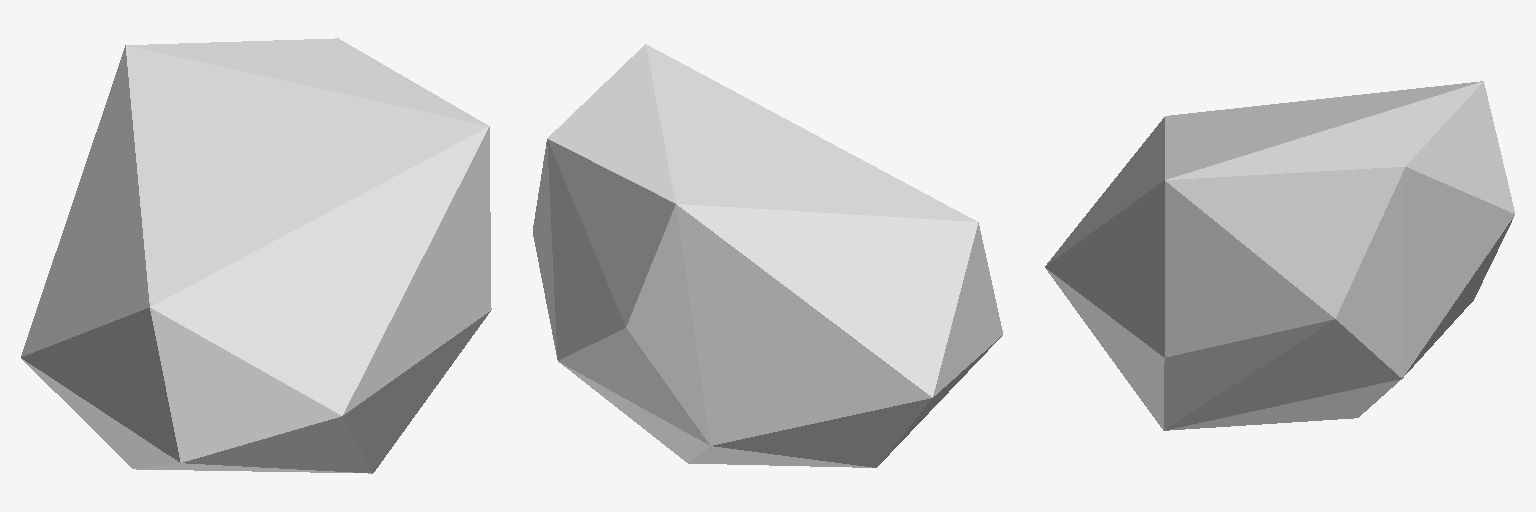
robot.urdf — talos_lleg_rom:
<?xml version="1.0" ?>
<robot name="talos_lleg_rom" xmlns:controller="http://playerstage.sourceforge.net/gazebo/xmlschema/#controller" xmlns:interface="http://playerstage.sourceforge.net/gazebo/xmlschema/#interface" xmlns:sensor="http://playerstage.sourceforge.net/gazebo/xmlschema/#sensor" xmlns:xacro="http://ros.org/wiki/xacro">

  <link name="torso_2_link">
    <inertial>
      <origin rpy="0.00000 0.00000 0.00000" xyz="-0.04551 -0.00053 0.16386"/>
      <mass value="17.55011"/>
      <inertia ixx="0.37376900000" ixy="0.00063900000" ixz="0.01219600000" iyy="0.24790200000" iyz="0.00000700000" izz="0.28140400000"/>
    </inertial>
  </link>
  <!--************************-->
  <!--        TORSO_1  (PAN)  -->
  <!--************************-->
  <link name="torso_1_link">
    <inertial>
      <origin rpy="0.00000 0.00000 0.00000" xyz="0.00013 -0.00001 -0.01306"/>
      <mass value="3.02433"/>
      <inertia ixx="0.00759400000" ixy="0.00000100000" ixz="-0.00004800000" iyy="0.00429200000" iyz="-0.00000100000" izz="0.00749700000"/>
    </inertial>
  </link>
  <joint name="torso_1_joint" type="revolute">
    <parent link="base_link"/>
    <child link="torso_1_link"/>
    <origin rpy="0.0 0.0 0.0" xyz="0.0 0.0 0.0722"/>
    <axis xyz="0 0 1"/>
    <limit effort="78.0" lower="-1.308996939" upper="1.308996939" velocity="5.4"/>
  </joint>
  <!--************************-->
  <!--        BASE_LINK       -->
  <!--************************-->
  <link name="base_link">
    <inertial>
      <origin rpy="0.00000 0.00000 0.00000" xyz="-0.08222 0.00838 -0.07261"/>
      <mass value="13.53810"/>
      <inertia ixx="0.06989000000" ixy="-0.00011700000" ixz="0.00023000000" iyy="0.03998200000" iyz="-0.00132500000" izz="0.08234500000"/>
    </inertial>
    <visual>
      <origin rpy="0 0 0" xyz="0 0 0"/>
      <geometry>
        <mesh filename="package://talos-rbprm/meshes/talos_lleg_rom.stl" scale="1 1 1"/>
      </geometry>
      <material name="LightGrey"/>
    </visual>
    <collision>
      <origin rpy="0 0 0" xyz="0 0 0"/>
      <geometry>
        <mesh filename="package://talos-rbprm/meshes/talos_lleg_rom.stl" scale="1 1 1"/>
      </geometry>
    </collision>
  </link>
  <joint name="torso_2_joint" type="revolute">
    <parent link="torso_1_link"/>
    <child link="torso_2_link"/>
    <origin rpy="0.0 0.0 0.0" xyz="0.0 0.0 0.0"/>
    <axis xyz="0 1 0"/>
    <limit effort="78.0" lower="-0.261799387799" upper="0.785398163397" velocity="5.4"/>
  </joint>
  <link name="head_1_link">
    <inertial>
      <origin rpy="0.00000 0.00000 0.00000" xyz="0.00120 0.00145 0.02165"/>
      <mass value="0.65988"/>
      <inertia ixx="0.00122100000" ixy="-0.00000400000" ixz="0.00007000000" iyy="0.00092400000" iyz="-0.00004100000" izz="0.00103300000"/>
    </inertial>
  </link>
  <joint name="head_1_joint" type="revolute">
    <parent link="torso_2_link"/>
    <child link="head_1_link"/>
    <origin rpy="0.0 0.0 0.0" xyz="0.00000 0.00000 0.31600"/>
    <axis xyz="0 1 0"/>
    <limit effort="8.0" lower="-0.261799387799" upper="0.785398163397" velocity="1.0"/>
  </joint>
  <link name="head_2_link">
    <inertial>
      <origin rpy="0.00000 0.00000 0.00000" xyz="-0.01036 -0.00037 0.13778"/>
      <mass value="1.40353"/>
      <inertia ixx="0.00722500000" ixy="-0.00002500000" ixz="0.00032900000" iyy="0.00687300000" iyz="0.00004400000" izz="0.00437300000"/>
    </inertial>   
  </link>
  <joint name="head_2_joint" type="revolute">
    <parent link="head_1_link"/>
    <child link="head_2_link"/>
    <origin rpy="0.0 0.0 0.0" xyz="0.00000 0.00000 0.00000"/>
    <axis xyz="0 0 1"/>
    <limit effort="4.0" lower="-1.308996939" upper="1.308996939" velocity="1.0"/>
  </joint>
  <!-- define global properties -->
  <!-- <xacro:property name="M_PI" value="3.1415926535897931" /> -->
  <!-- Materials for visualization -->
  <material name="Blue">
    <color rgba="0.0 0.0 0.8 1.0"/>
  </material>
  <material name="Green">
    <color rgba="0.0 0.8 0.0 1.0"/>
  </material>
  <material name="Grey">
    <color rgba="0.7 0.7 0.7 1.0"/>
  </material>
  <material name="LightGrey">
    <color rgba="0.9 0.9 0.9 1.0"/>
  </material>
  <material name="DarkGrey">
    <color rgba="0.2 0.2 0.2 1.0"/>
  </material>
  <material name="Red">
    <color rgba="0.8 0.0 0.0 1.0"/>
  </material>
  <material name="White">
    <color rgba="1.0 1.0 1.0 1.0"/>
  </material>
  <material name="Orange">
    <color rgba="1.0 0.5 0.0 1.0"/>
  </material>
</robot>

--- Facts derived from the render (not from the file) ---
3 views of the same robot in one strip: view 1: azimuth 30°, elevation 25°; view 2: azimuth 150°, elevation 25°; view 3: azimuth 270°, elevation 25° (orthographic).
Robot: talos_lleg_rom — 5 links, 4 joints (4 revolute); root link base_link; default pose: all joints at 0.
Links seen in each view (by area): view 1: base_link; view 2: base_link; view 3: base_link.
Boxes of the visible links, left/top/right/bottom form: base_link: left=21, top=38, right=491, bottom=473; base_link: left=533, top=44, right=1002, bottom=467; base_link: left=1045, top=81, right=1514, bottom=430.
Size in the robot's own frame: 1.49 by 1.56 by 1.14 metres.
1 mesh visuals loaded from 1 distinct referenced files (1 binary STL).